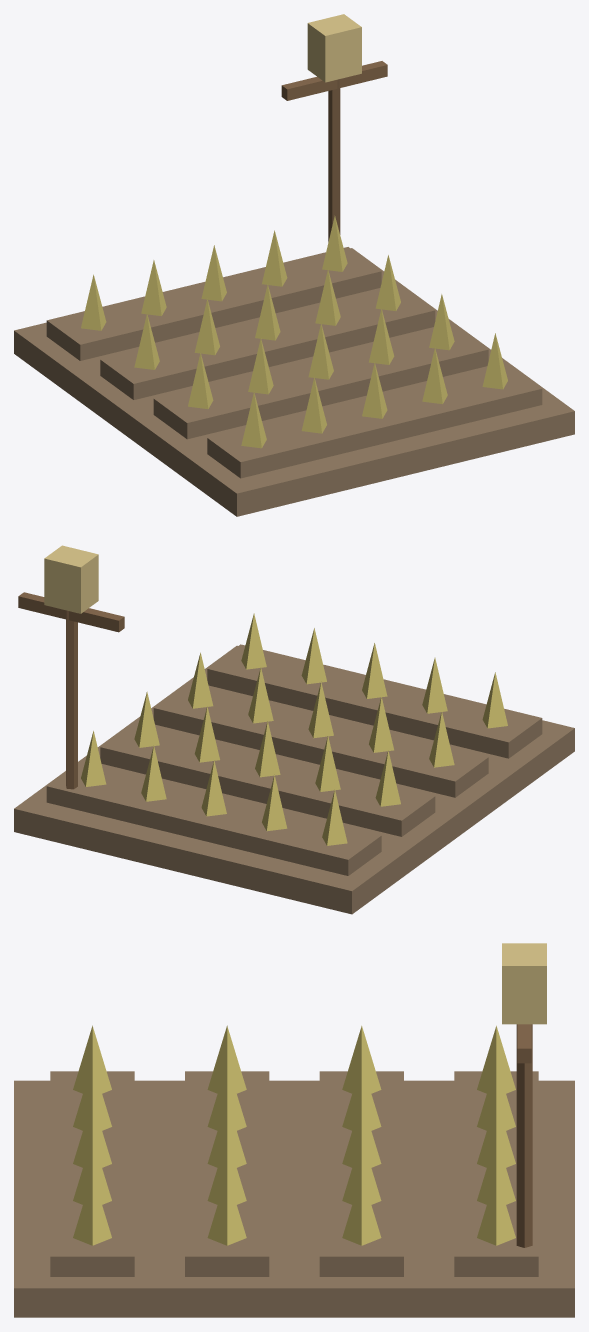
The model's file is Farm.fbx.
3 renders of one model, top to bottom at view 1: azimuth 30°, elevation 25°; view 2: azimuth 150°, elevation 25°; view 3: azimuth 270°, elevation 25°, orthographic. The views are drawn at different scales.
Visible parts, largest first — view 1: Farm_Ground, Farm_Row, Farm_Row.001, Farm_Row.003, Farm_Row.002, Farm_ScarecrowHead, Farm_ScarecrowPole, Farm_ScarecrowArms, Farm_Crop.001, Farm_Crop.003, Farm_Crop.007, Farm_Crop.017 (+16 smaller); view 2: Farm_Ground, Farm_Row.003, Farm_Row, Farm_Row.001, Farm_Row.002, Farm_ScarecrowHead, Farm_ScarecrowPole, Farm_ScarecrowArms, Farm_Crop.001, Farm_Crop.014, Farm_Crop.015, Farm_Crop.018 (+16 smaller); view 3: Farm_Ground, Farm_Row.001, Farm_Row.002, Farm_Row, Farm_Row.003, Farm_ScarecrowHead, Farm_ScarecrowPole, Farm_Crop.009, Farm_Crop.014, Farm_Crop.004, Farm_Crop.019, Farm_Crop.005 (+16 smaller).
Part boxes in pixels (bbox=[...]): Farm_Ground: bbox=[14, 248, 574, 516]; Farm_Row: bbox=[207, 364, 542, 478]; Farm_Row.001: bbox=[153, 325, 488, 439]; Farm_Row.003: bbox=[46, 247, 381, 360]; Farm_Row.002: bbox=[100, 286, 435, 399]; Farm_ScarecrowHead: bbox=[307, 14, 361, 82]; Farm_ScarecrowPole: bbox=[328, 79, 340, 241]; Farm_ScarecrowArms: bbox=[281, 61, 387, 100]; Farm_Crop.001: bbox=[301, 377, 326, 433]; Farm_Crop.003: bbox=[422, 348, 447, 404]; Farm_Crop.007: bbox=[308, 323, 333, 379]; Farm_Crop.017: bbox=[201, 245, 226, 301]; Farm_Ground: bbox=[14, 645, 574, 914]; Farm_Row.003: bbox=[46, 762, 381, 875]; Farm_Row: bbox=[207, 644, 542, 758]; Farm_Row.001: bbox=[153, 683, 488, 797]; Farm_Row.002: bbox=[100, 722, 435, 836]; Farm_ScarecrowHead: bbox=[44, 545, 98, 613]; Farm_ScarecrowPole: bbox=[66, 610, 77, 789]; Farm_ScarecrowArms: bbox=[18, 592, 124, 632]; Farm_Crop.001: bbox=[422, 657, 447, 713]; Farm_Crop.014: bbox=[134, 691, 159, 747]; Farm_Crop.015: bbox=[322, 789, 347, 845]; Farm_Crop.018: bbox=[141, 745, 166, 801]; Farm_Ground: bbox=[14, 1080, 574, 1317]; Farm_Row.001: bbox=[185, 1071, 269, 1276]; Farm_Row.002: bbox=[319, 1071, 403, 1276]; Farm_Row: bbox=[50, 1071, 134, 1276]; Farm_Row.003: bbox=[454, 1071, 538, 1276]; Farm_ScarecrowHead: bbox=[502, 943, 546, 1024]; Farm_ScarecrowPole: bbox=[516, 1024, 532, 1247]; Farm_Crop.009: bbox=[207, 1174, 246, 1245]; Farm_Crop.014: bbox=[342, 1174, 381, 1245]; Farm_Crop.004: bbox=[73, 1174, 111, 1245]; Farm_Crop.019: bbox=[477, 1174, 515, 1245]; Farm_Crop.005: bbox=[207, 1025, 246, 1093].
Size of the model in its own units: 170 by 125 by 187.
